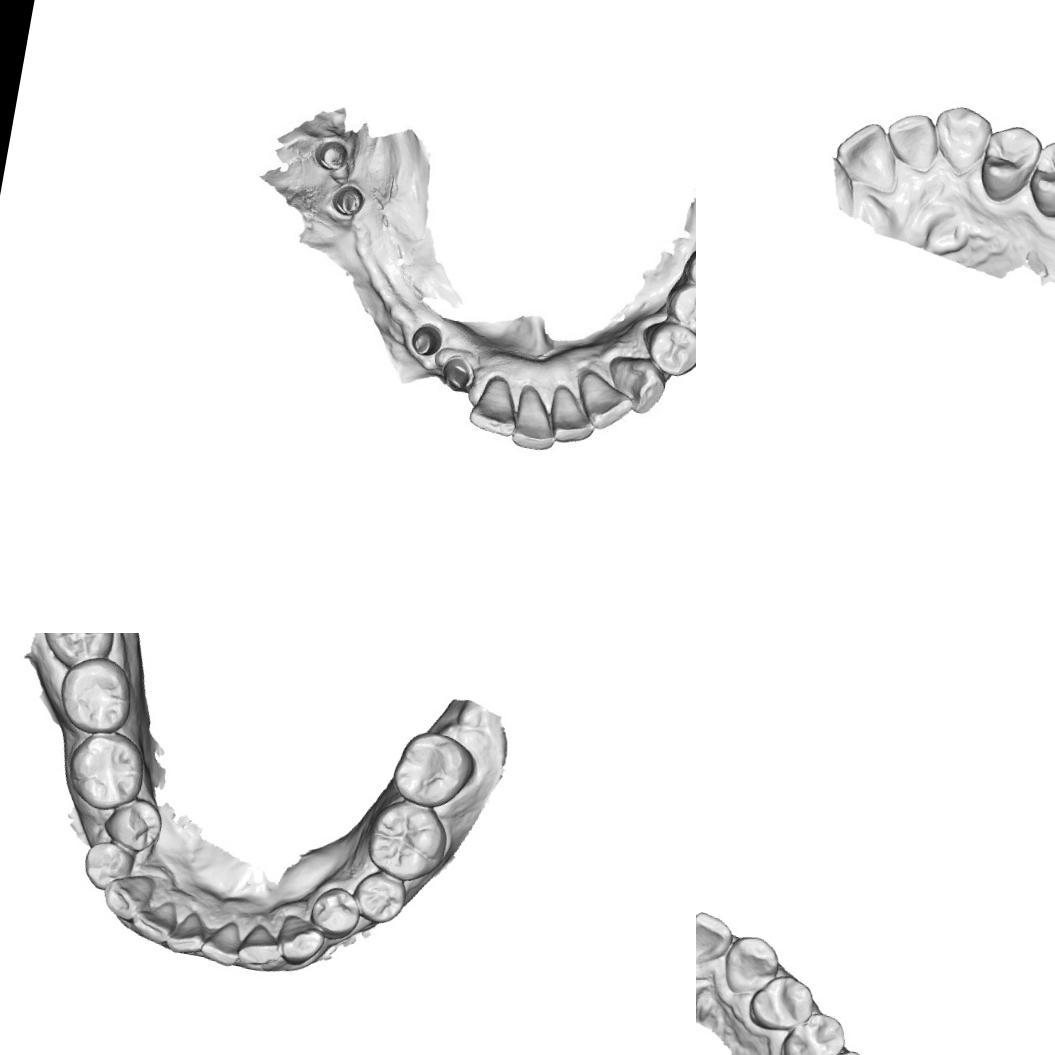abutment: (306, 132, 356, 176), (329, 180, 368, 226), (406, 316, 445, 362), (436, 355, 476, 397)
canine: (926, 99, 994, 176), (598, 347, 669, 419), (716, 928, 784, 1002), (97, 867, 158, 925), (273, 910, 326, 969)
incisor: (830, 116, 904, 196), (877, 103, 943, 174), (466, 370, 526, 441), (573, 370, 630, 430), (512, 382, 560, 446), (127, 893, 182, 946), (546, 385, 596, 442), (234, 920, 284, 972), (198, 915, 246, 968), (163, 906, 209, 958), (696, 908, 734, 969)
molar: (57, 724, 148, 817), (360, 797, 452, 888), (388, 725, 480, 815), (53, 651, 136, 737), (33, 633, 121, 677)
premolar: (970, 118, 1046, 206), (744, 968, 820, 1036), (774, 1002, 853, 1055), (100, 792, 166, 854), (303, 882, 364, 942), (347, 868, 410, 926), (78, 838, 136, 894), (1021, 133, 1055, 222), (646, 323, 696, 375), (673, 241, 696, 305), (671, 282, 696, 332)
